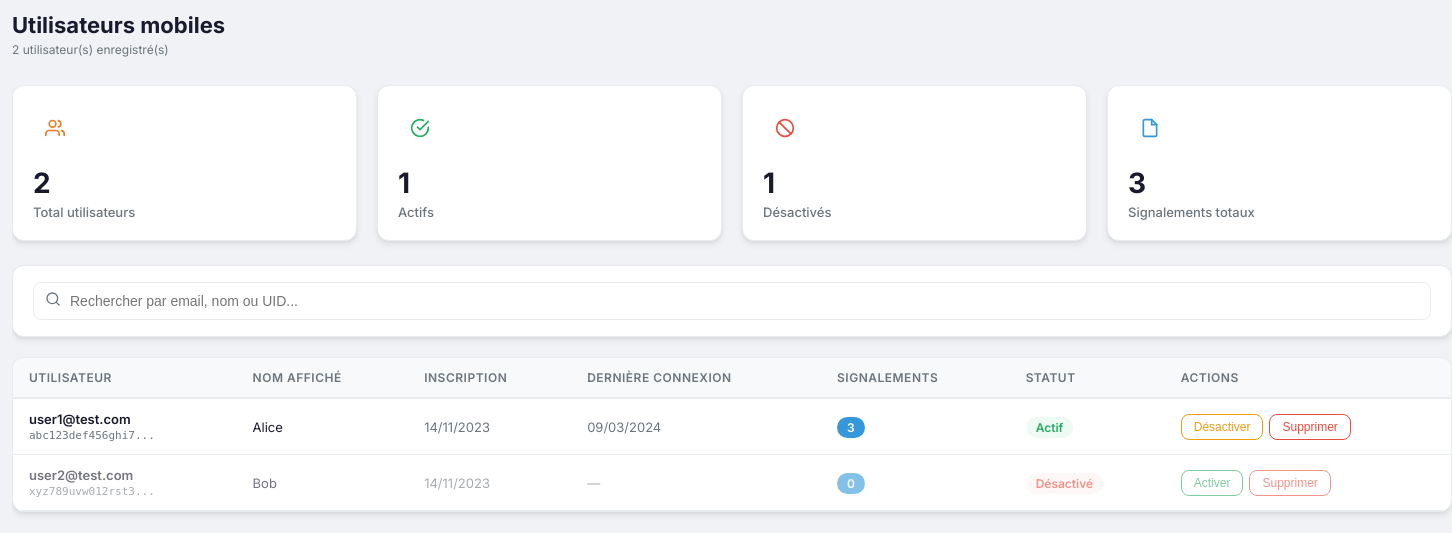
Test case: Users › affiche 'Aucun utilisateur trouvé' si filtre sans résultat
This screenshot has width=1452, height=533.
Check: the text "user1@test.com" is shown, box 29,411 -> 131,427
Type "zzznomatch" into the field with placeholder "Rechercher par email, nom ou UID...".
click(732, 301); type("zzznomatch")  # box 33,282 -> 1431,320
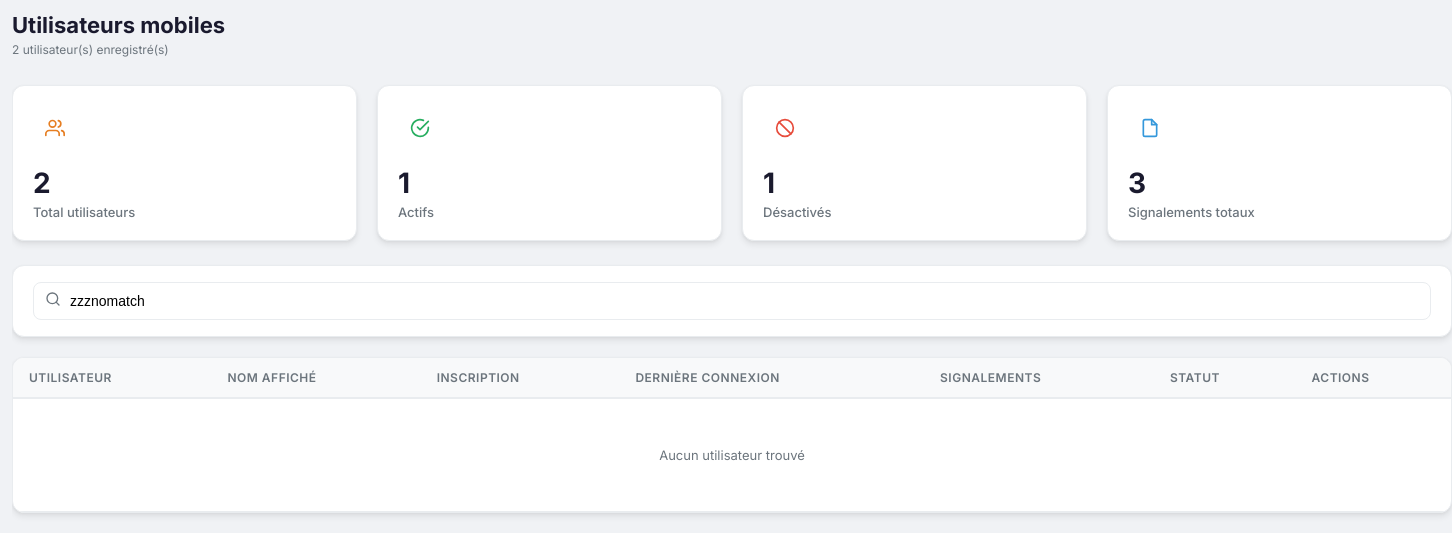
Check: the text "Aucun utilisateur trouvé" is shown, box 13,398 -> 1451,512
